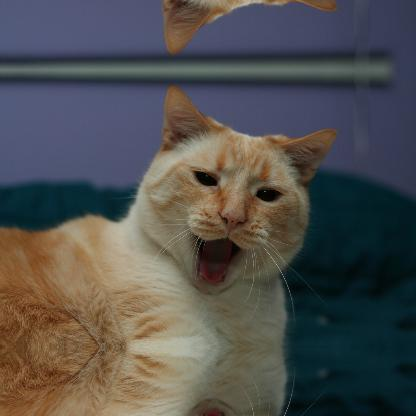Cat: (0, 84, 338, 346), (0, 346, 339, 415), (0, 0, 339, 55)
